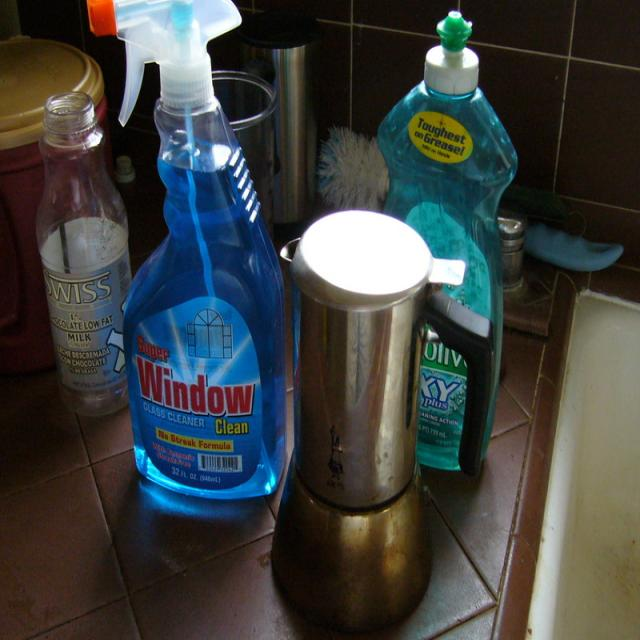container -bottle - jar: (88, 0, 286, 499), (378, 12, 516, 455), (36, 92, 131, 415)
